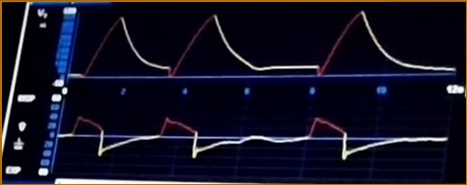Flow: (62, 107, 442, 175)
Leakage Volume: (76, 8, 455, 83)
